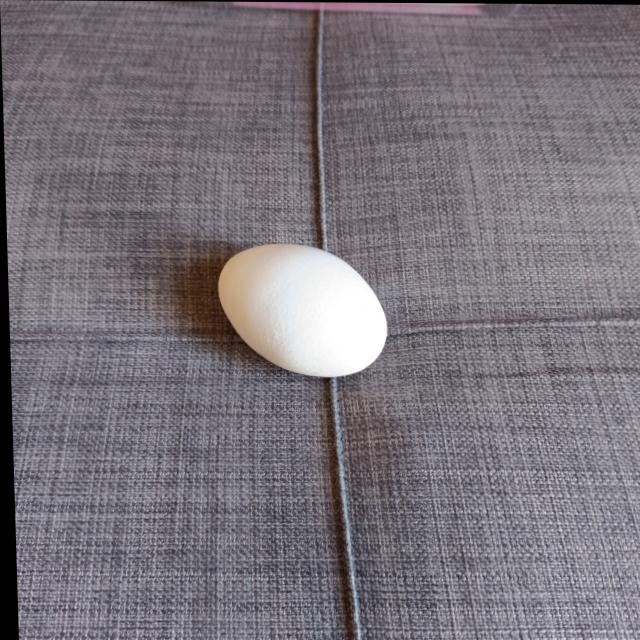egg: (217, 241, 386, 376)
